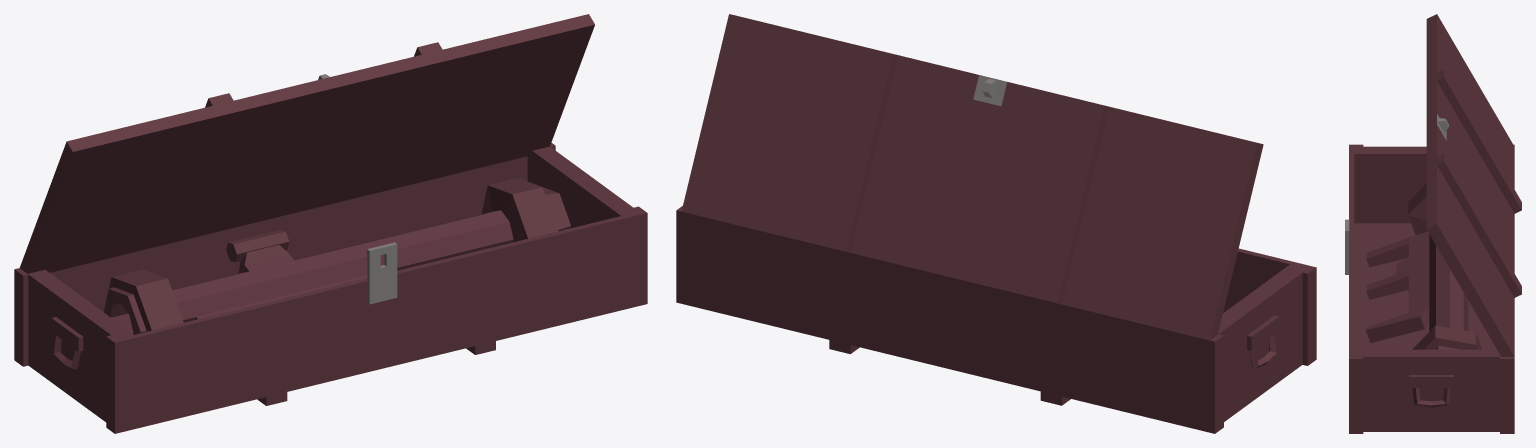
Rendered from crate-army-rocket-launcher-open.fbx.
3 views of the same model, side by side, from view 1: azimuth 30°, elevation 25°; view 2: azimuth 150°, elevation 25°; view 3: azimuth 270°, elevation 25° (orthographic). The views are drawn at different scales.
Parts seen in each view (by area): view 1: crate-army-rocket-launcher-open; view 2: crate-army-rocket-launcher-open; view 3: crate-army-rocket-launcher-open.
Boxes of the visible parts, x1,y1,x2,y2 form: crate-army-rocket-launcher-open: (14,14,647,433); crate-army-rocket-launcher-open: (676,14,1316,433); crate-army-rocket-launcher-open: (1345,14,1521,433).
Size of the model in its own units: 1.23 by 0.5829 by 0.4268.
